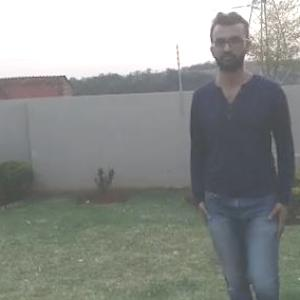follow: (197, 25, 285, 299)
